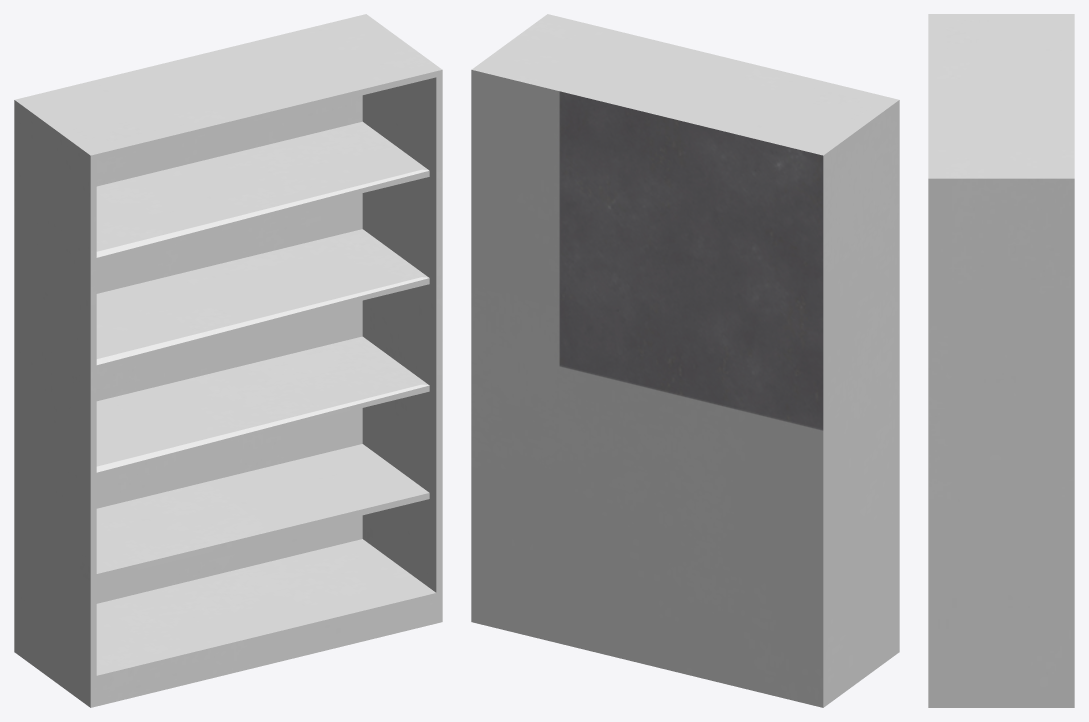
3 views of the same model, side by side, from view 1: azimuth 30°, elevation 25°; view 2: azimuth 150°, elevation 25°; view 3: azimuth 270°, elevation 25° (orthographic). The views are drawn at different scales.
Visible parts, largest first — view 1: SM_柜子; view 2: SM_柜子; view 3: SM_柜子.
Part boxes in pixels (<box>): SM_柜子: <box>14,14,442,707</box>; SM_柜子: <box>471,14,899,707</box>; SM_柜子: <box>928,14,1074,707</box>.
Bounding box in the file's own units: 1.2 × 1.8 × 0.45.
